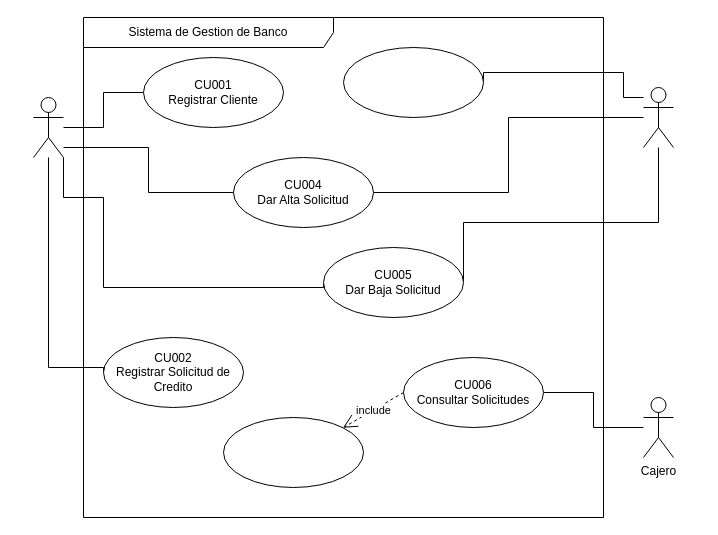
The diagram is 718 pixels wide and 535 high, and some of its shapes have lost their labels. Each missing label, with the centre of its shape:
"CU003 Verificar Solicitudes Pendientes" goes at [413,82].
"CU007 Buscar Credito" goes at [293,452].
"Funcionario" goes at [48,127].
"Jefe de Seccion" goes at [658,117].
